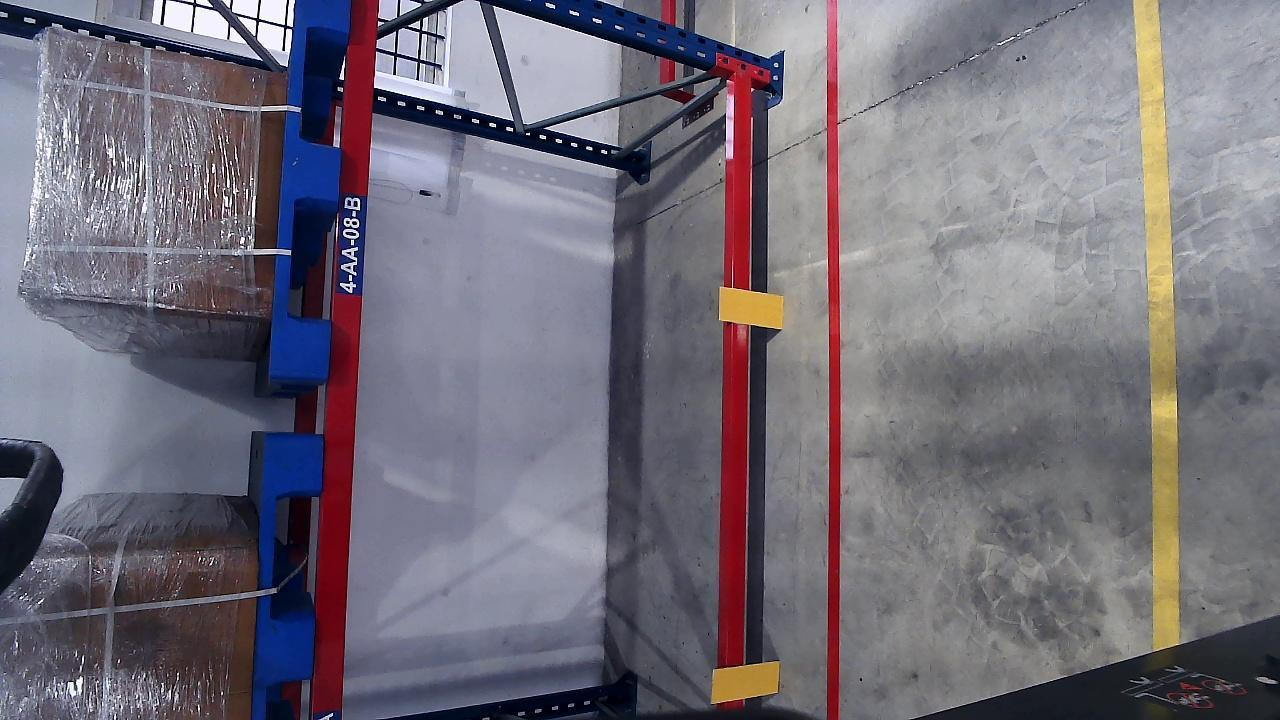red_line: (822, 0, 844, 720)
yellow_line: (1135, 0, 1181, 654)
